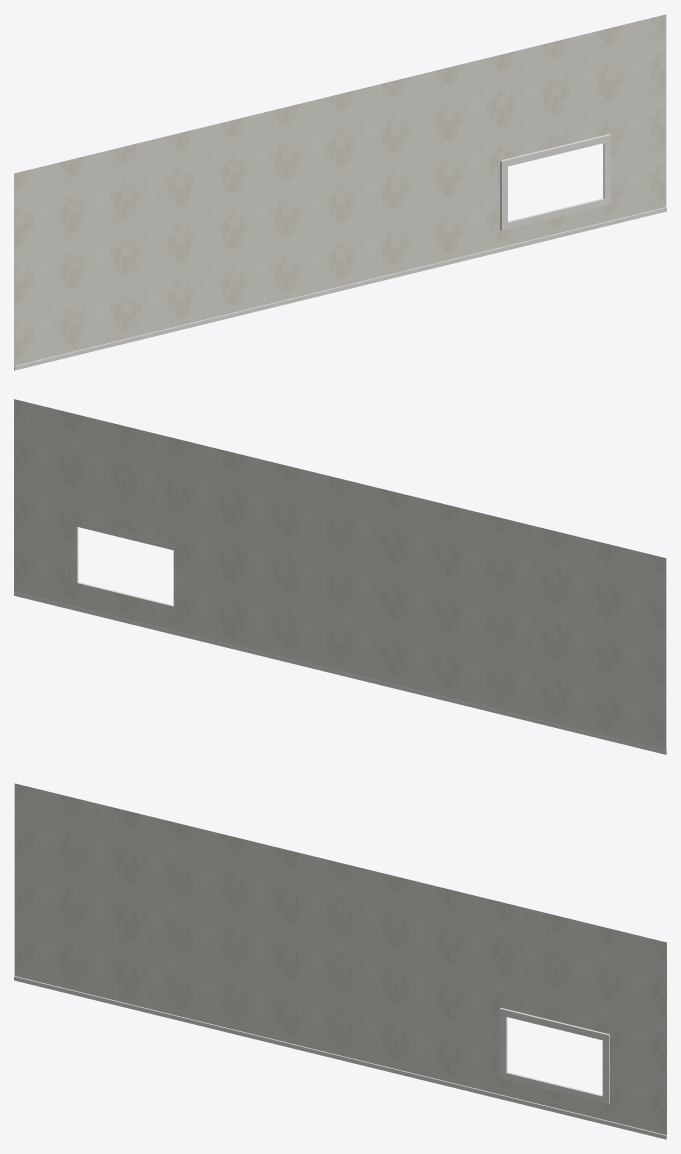
3 views of the same model, one above another, from view 1: azimuth 30°, elevation 25°; view 2: azimuth 150°, elevation 25°; view 3: azimuth 330°, elevation 25° (orthographic).
Visible parts, largest first — view 1: jx_wm_24_55261f61; view 2: jx_wm_24_55261f61; view 3: jx_wm_24_55261f61.
Part boxes in pixels (<box>): jx_wm_24_55261f61: <box>14,14,666,370</box>; jx_wm_24_55261f61: <box>14,399,666,754</box>; jx_wm_24_55261f61: <box>14,783,666,1139</box>.
Size of the model in its own units: 24.3 by 7 by 0.086.
2 materials, 2 textured.
